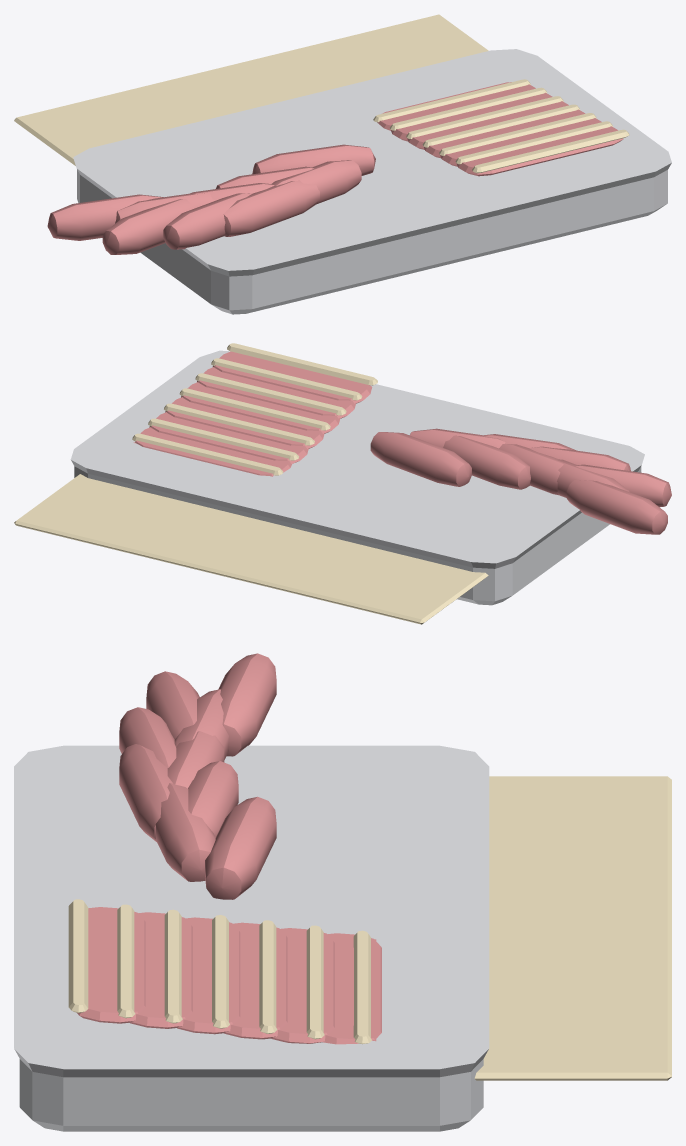
Rendered from butchers-shop-and-deli-counter-sausage-and-bacon-tray-9fca3c5a__34429.glb.
The picture shows the model from 3 angles, top to bottom: view 1: azimuth 30°, elevation 25°; view 2: azimuth 150°, elevation 25°; view 3: azimuth 270°, elevation 25°; orthographic projection. The views are drawn at different scales.
Parts seen in each view (by area): view 1: sausage-and-bacon-tray; view 2: sausage-and-bacon-tray; view 3: sausage-and-bacon-tray.
Boxes of the visible parts, left/top/right/bottom form: sausage-and-bacon-tray: left=14, top=14, right=671, bottom=314; sausage-and-bacon-tray: left=14, top=343, right=671, bottom=624; sausage-and-bacon-tray: left=14, top=653, right=671, bottom=1131.
Size of the model in its own units: 0.6332 by 0.085 by 0.454.
